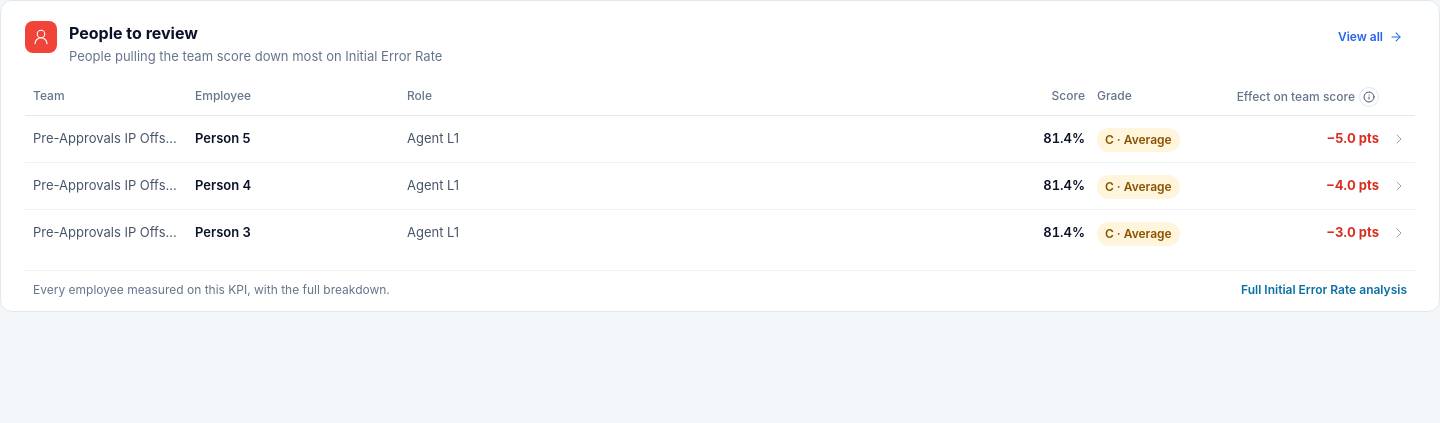
Scenario: PeopleToReviewSection › expands "View all" in place, turns it into "Show less", and collapses it again, without changing the page filters
The image size is (1440, 423).
Click the button "View all" at {"x": 1369, "y": 37}, box [1324,21,1415,53]
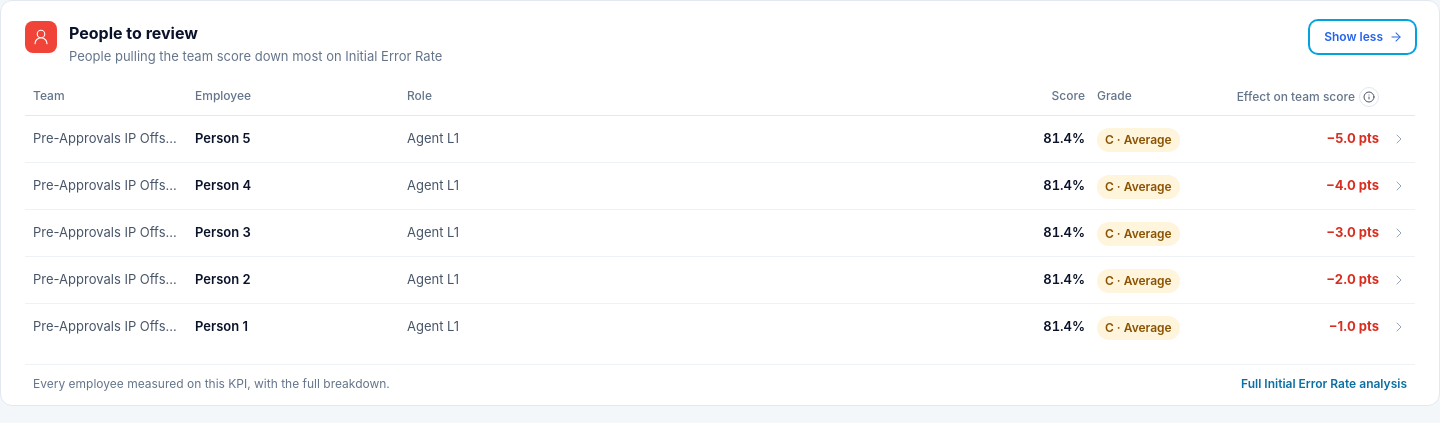
Now the button "Show less" is expanded
Click the button "Show less" at {"x": 1363, "y": 37}, box [1310,21,1415,53]
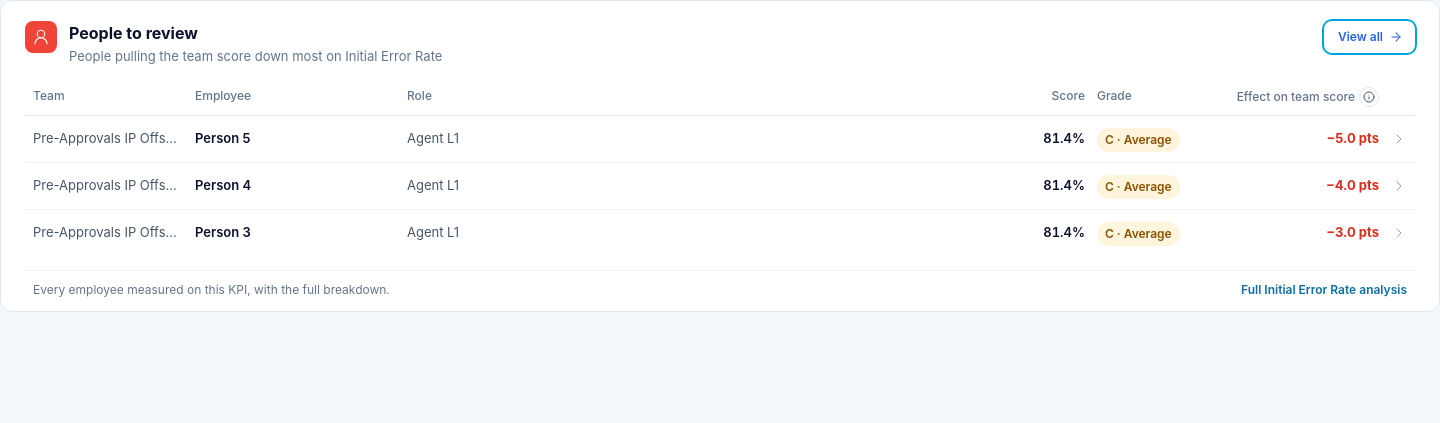
Now the button "View all" is collapsed, box [1324,21,1415,53]
